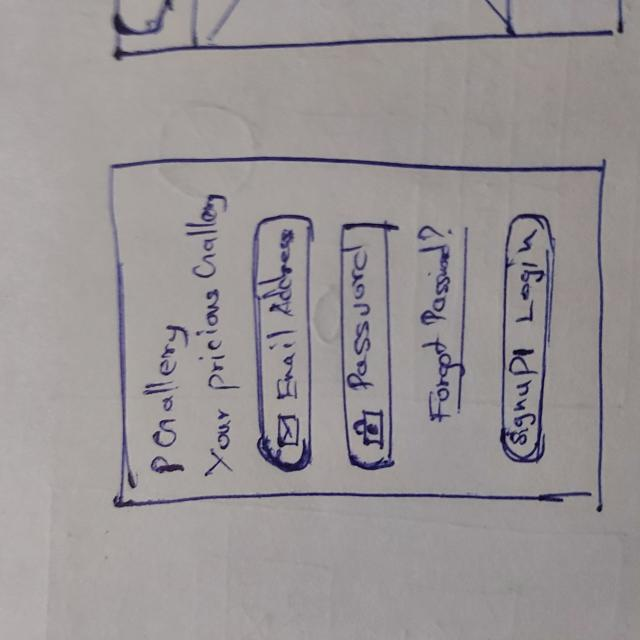Button: (491, 212, 557, 471)
EditText: (251, 210, 322, 480), (334, 215, 403, 476)
Icon: (351, 407, 387, 454), (275, 410, 303, 449)
MainLayout: (103, 156, 613, 504)
TextView: (192, 187, 241, 481), (415, 223, 453, 424), (146, 319, 189, 471)
